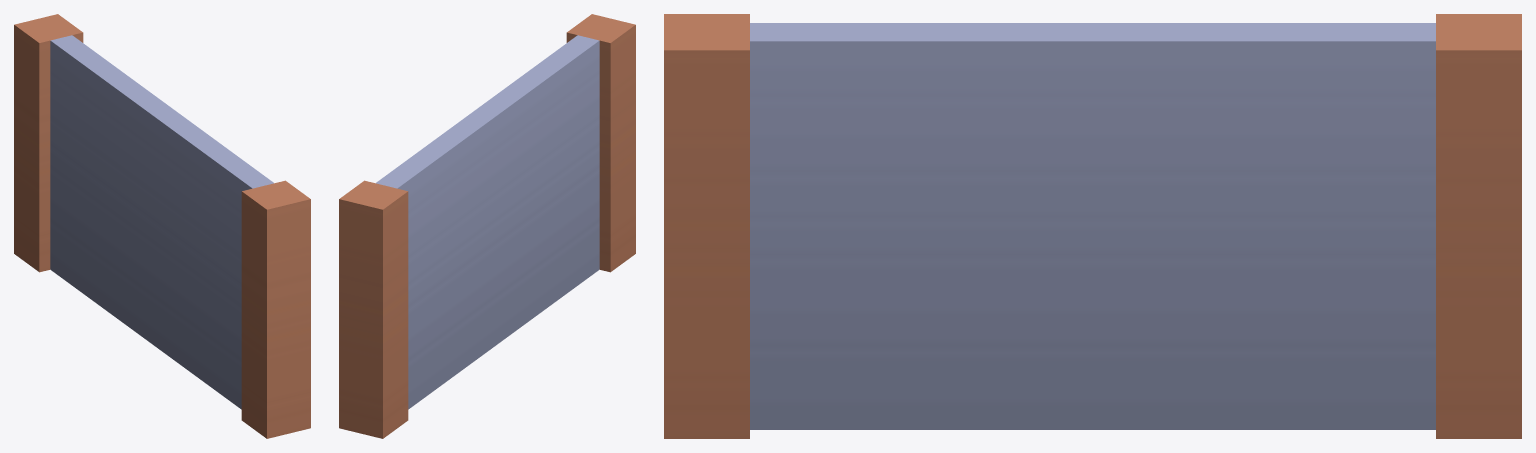
File: wall-half.fbx
3 views of the same model, side by side, from view 1: azimuth 30°, elevation 25°; view 2: azimuth 150°, elevation 25°; view 3: azimuth 270°, elevation 25° (orthographic). The views are drawn at different scales.
Visible parts, largest first — view 1: wall-half; view 2: wall-half; view 3: wall-half.
Boxes of the visible parts, x1,y1,x2,y2 form: wall-half: (14, 14, 310, 438); wall-half: (339, 14, 635, 438); wall-half: (664, 14, 1521, 438).
Size of the model in its own units: 10 by 50 by 100.
1 material, 1 textured.
